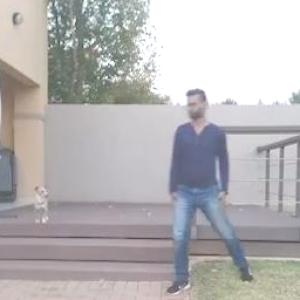follow: (176, 89, 234, 275)
